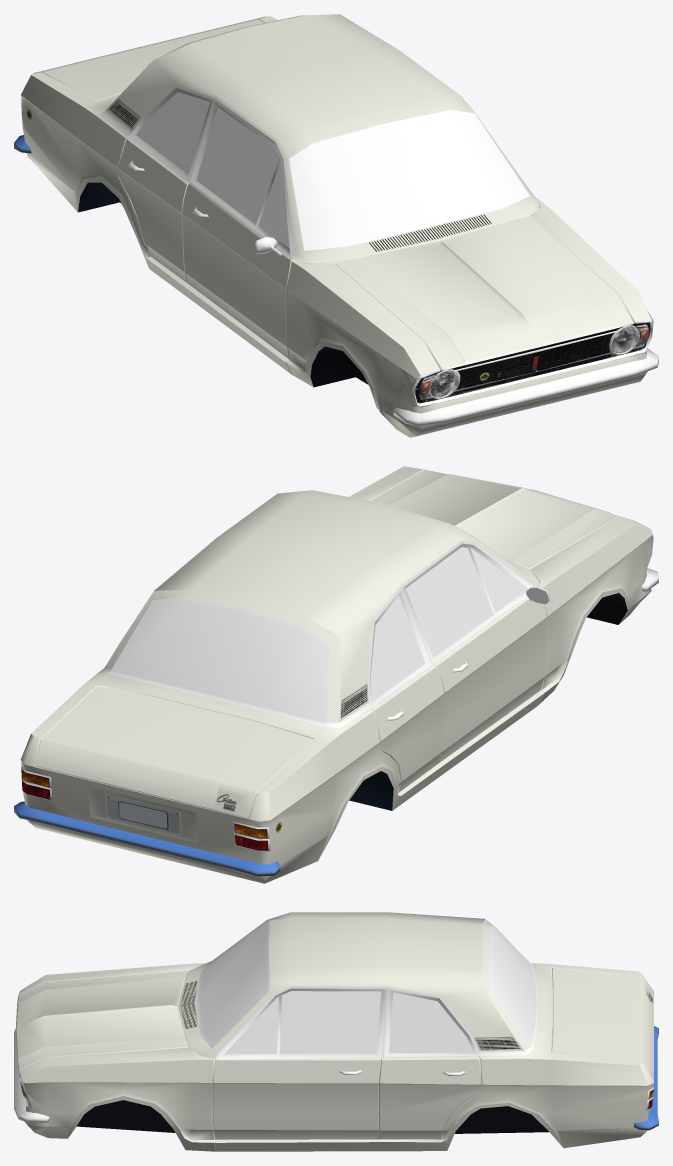
File: Cortina high.fbx
3 views of the same model, one above another, from view 1: azimuth 30°, elevation 25°; view 2: azimuth 150°, elevation 25°; view 3: azimuth 270°, elevation 25° (orthographic). The views are drawn at different scales.
Visible parts, largest first — view 1: Car; view 2: Car; view 3: Car.
Part boxes in pixels (x1,y1,x2,y2): Car: (14, 14, 658, 437); Car: (14, 466, 658, 883); Car: (14, 912, 658, 1151).
Bounding box in the file's own units: 171 × 424 × 118.
5 materials, 3 textured.
